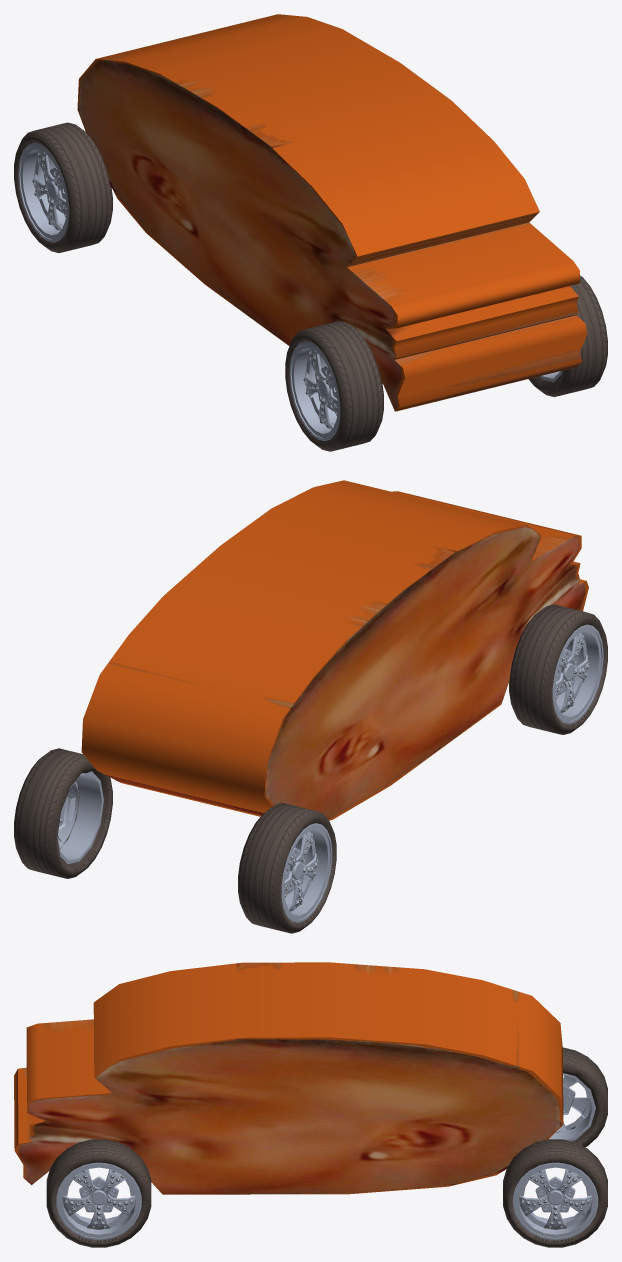
Rendered from dababy.glb.
3 renders of one model, top to bottom at view 1: azimuth 30°, elevation 25°; view 2: azimuth 150°, elevation 25°; view 3: azimuth 270°, elevation 25°, orthographic. The views are drawn at different scales.
Parts seen in each view (by area): view 1: Body, WheelFR, WheelBR, WheelFL; view 2: Body, WheelBR, WheelFR, WheelBL; view 3: Body, WheelFL, WheelBL, WheelBR.
Boxes of the visible parts, bbox=[...] form: Body: bbox=[77, 14, 587, 411]; WheelFR: bbox=[285, 321, 383, 451]; WheelBR: bbox=[14, 122, 112, 252]; WheelFL: bbox=[528, 275, 607, 396]; Body: bbox=[81, 480, 588, 820]; WheelBR: bbox=[238, 803, 336, 933]; WheelFR: bbox=[509, 604, 607, 734]; WheelBL: bbox=[14, 748, 112, 878]; Body: bbox=[14, 962, 563, 1194]; WheelFL: bbox=[46, 1139, 151, 1247]; WheelBL: bbox=[503, 1139, 607, 1247]; WheelBR: bbox=[549, 1047, 607, 1147].
Size of what is drawn, in the model's own units: 1.63 by 1.35 by 3.74.
Materials: 4 (4 with a texture image).
